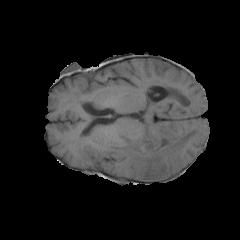glioma: (108, 124, 198, 180)
